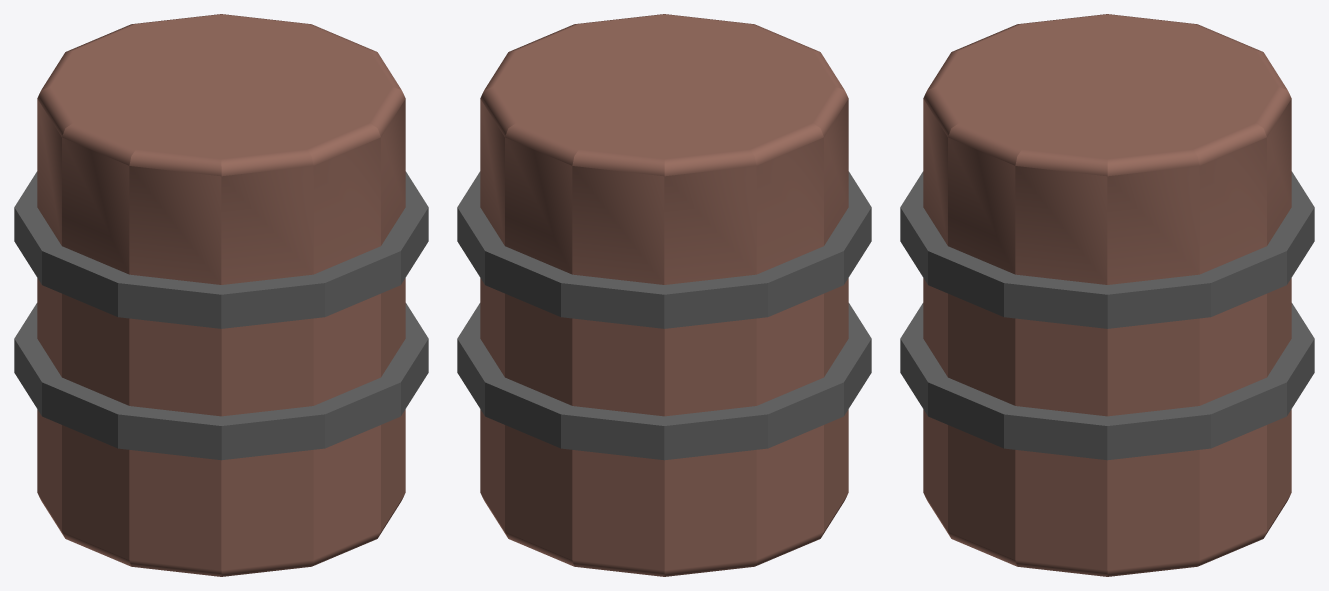
File: Barrel.fbx
3 views of the same model, side by side, from view 1: azimuth 30°, elevation 25°; view 2: azimuth 150°, elevation 25°; view 3: azimuth 270°, elevation 25° (orthographic).
Visible parts, largest first — view 1: Barrel; view 2: Barrel; view 3: Barrel.
Part boxes in pixels (x1,y1,x2,y2): Barrel: (14,14,428,576); Barrel: (457,14,871,576); Barrel: (900,14,1314,576).
Size of the model in its own units: 180 by 200 by 180.
